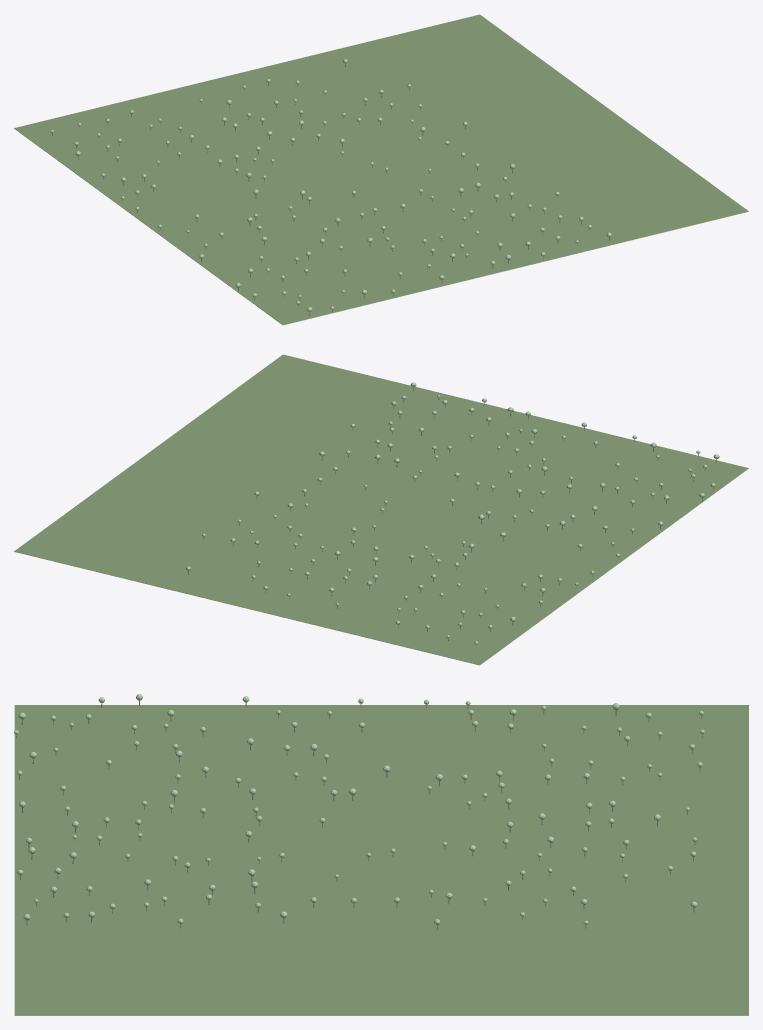
The model's file is chunk_7_6_high.glb.
3 views of the same model, one above another, from view 1: azimuth 30°, elevation 25°; view 2: azimuth 150°, elevation 25°; view 3: azimuth 270°, elevation 25° (orthographic). The views are drawn at different scales.
Visible parts, largest first — view 1: city_forest_floor, city_foliage, city_foliage_dark, city_grass, city_bark; view 2: city_forest_floor, city_foliage, city_foliage_dark, city_grass, city_bark; view 3: city_forest_floor, city_foliage, city_foliage_dark, city_bark, city_grass.
Part boxes in pixels (<box>): city_forest_floor: <box>14,14,748,324</box>; city_foliage: <box>51,59,611,311</box>; city_foliage_dark: <box>50,60,611,311</box>; city_grass: <box>14,128,748,325</box>; city_bark: <box>52,63,609,315</box>; city_forest_floor: <box>14,354,748,664</box>; city_foliage: <box>186,382,718,644</box>; city_foliage_dark: <box>186,383,719,643</box>; city_grass: <box>14,468,748,665</box>; city_bark: <box>188,387,716,647</box>; city_forest_floor: <box>14,705,748,1015</box>; city_foliage: <box>14,694,704,924</box>; city_foliage_dark: <box>15,696,703,924</box>; city_bark: <box>16,700,702,929</box>; city_grass: <box>14,1015,748,1015</box>.
Size of the model in its own units: 514 by 9.75 by 512.
